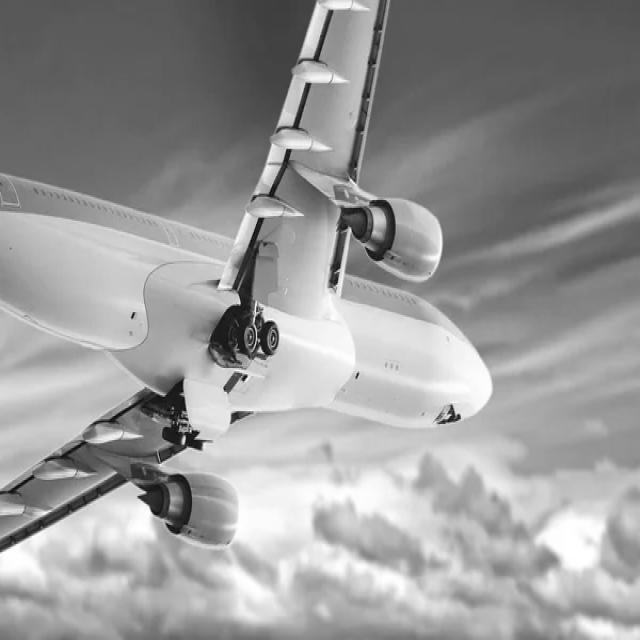Aircraft: (0, 0, 503, 577)
